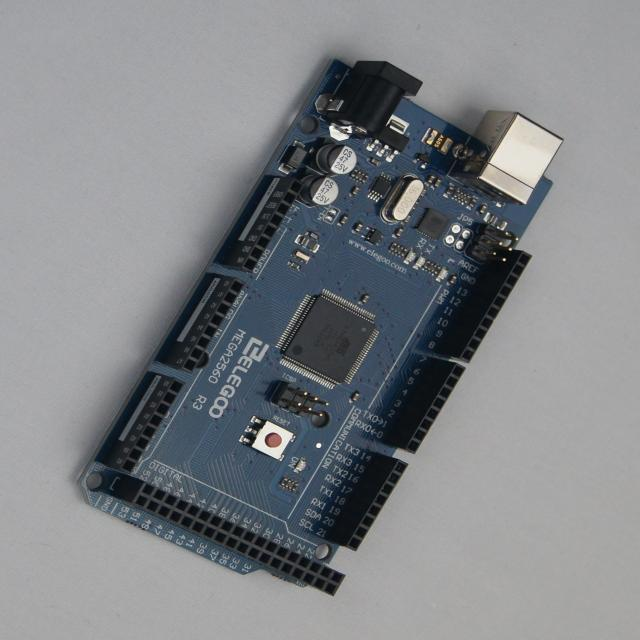Arduino Mega 2560 -Blue-: (84, 62, 563, 594)
